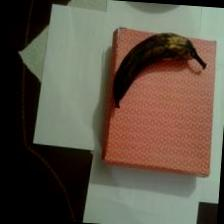Banana Rotten: (103, 22, 213, 112)
